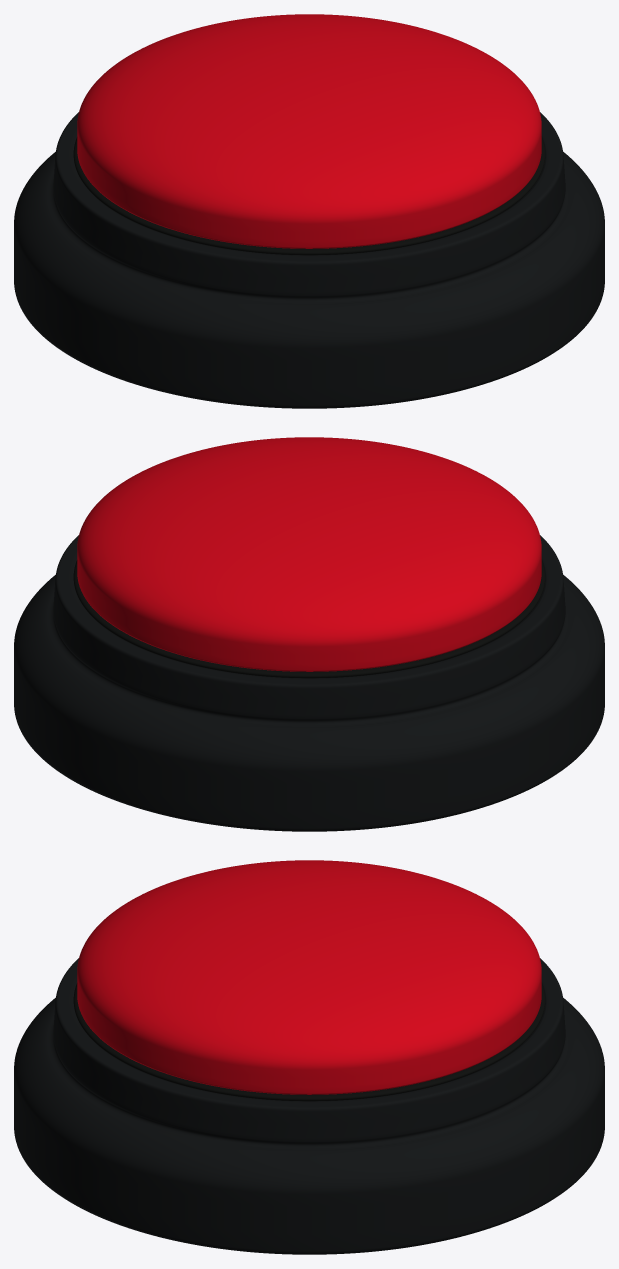
The model's file is red_button_metric.glb.
3 views of the same model, one above another, from view 1: azimuth 30°, elevation 25°; view 2: azimuth 150°, elevation 25°; view 3: azimuth 270°, elevation 25° (orthographic).
Visible parts, largest first — view 1: Base_Housing, Button_Cap, Button_Seat_Seam; view 2: Base_Housing, Button_Cap, Button_Seat_Seam; view 3: Base_Housing, Button_Cap, Button_Seat_Seam.
Part boxes in pixels (box(x1,y1,x2,y2)): Base_Housing: box(14, 112, 604, 408); Button_Cap: box(77, 14, 541, 248); Button_Seat_Seam: box(73, 137, 545, 255); Base_Housing: box(14, 535, 604, 831); Button_Cap: box(77, 437, 541, 671); Button_Seat_Seam: box(73, 560, 545, 678); Base_Housing: box(14, 958, 604, 1254); Button_Cap: box(77, 860, 541, 1094); Button_Seat_Seam: box(73, 983, 545, 1101).
Bounding box in the file's own units: 0.088 × 0.035 × 0.088.
